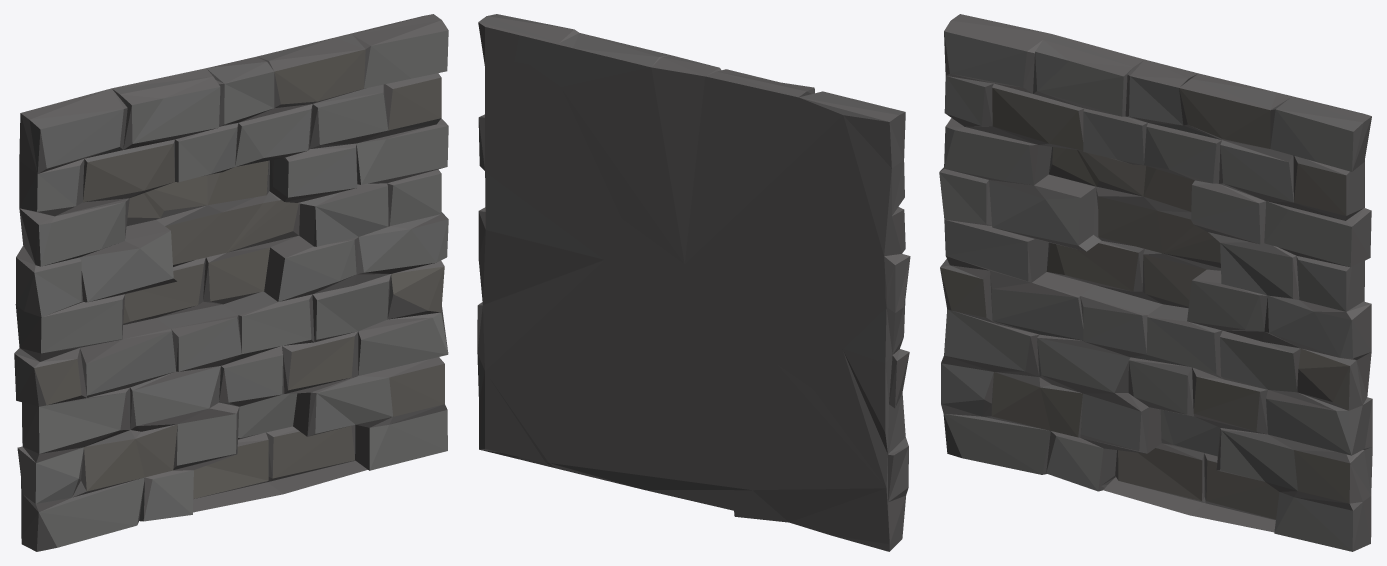
The model's file is SM_Env_Wall_03.FBX.
The picture shows the model from 3 angles, left to right: view 1: azimuth 30°, elevation 25°; view 2: azimuth 150°, elevation 25°; view 3: azimuth 330°, elevation 25°; orthographic projection.
Visible parts, largest first — view 1: SM_Env_Wall_03; view 2: SM_Env_Wall_03; view 3: SM_Env_Wall_03.
Boxes of the visible parts, bbox=[...] form: SM_Env_Wall_03: bbox=[14, 14, 448, 551]; SM_Env_Wall_03: bbox=[477, 14, 910, 551]; SM_Env_Wall_03: bbox=[939, 14, 1372, 551].
Size of what is drawn, in the model's own units: 518 by 42.95 by 513.
